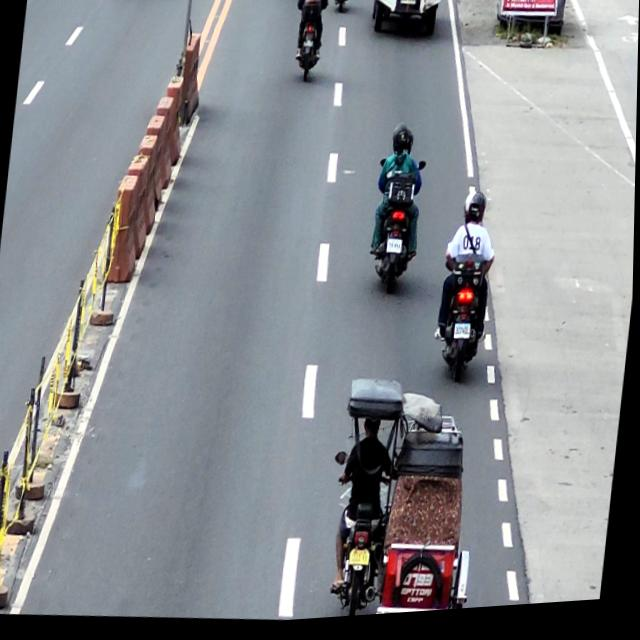License-Plate: (350, 551, 373, 573), (454, 329, 472, 347), (387, 243, 404, 259), (302, 42, 315, 53)
Motorcycle: (367, 158, 427, 303), (436, 251, 493, 393), (288, 0, 330, 86)
Tricycle: (320, 372, 491, 623)
